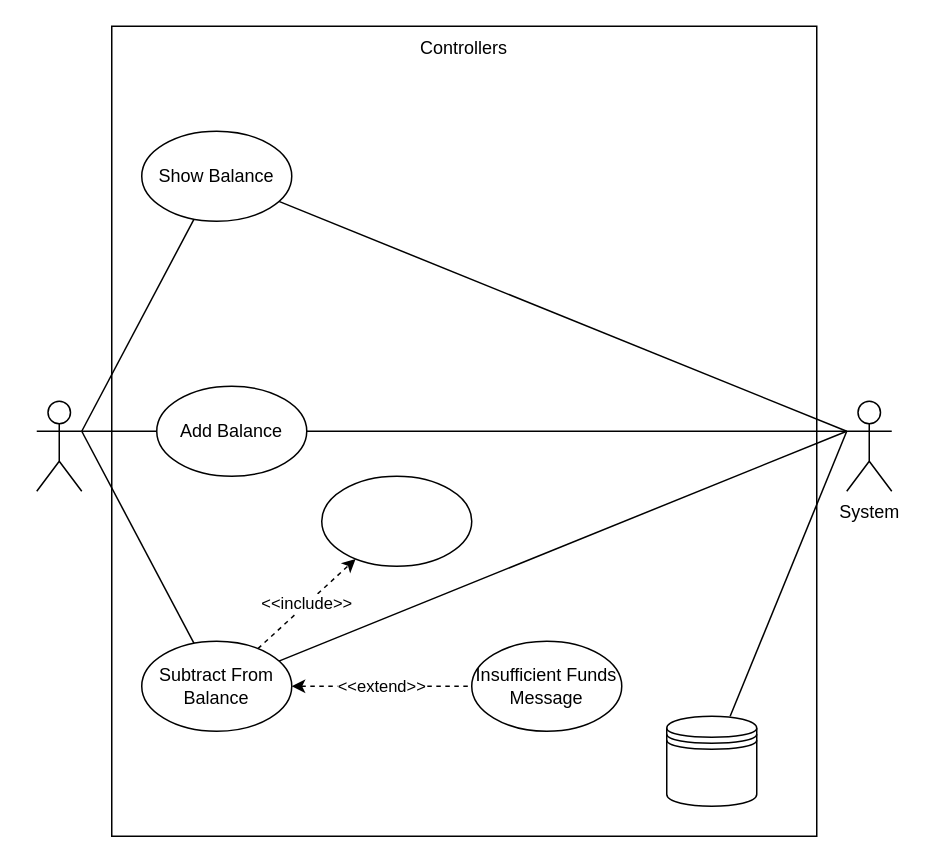
Image size: 926x863. Some labels were removed from this diagram. Each missing label, with the centre of its shape:
DataBase: (711,760)
Member: (58,445)
Verifu Sufficient Funds: (396,520)
